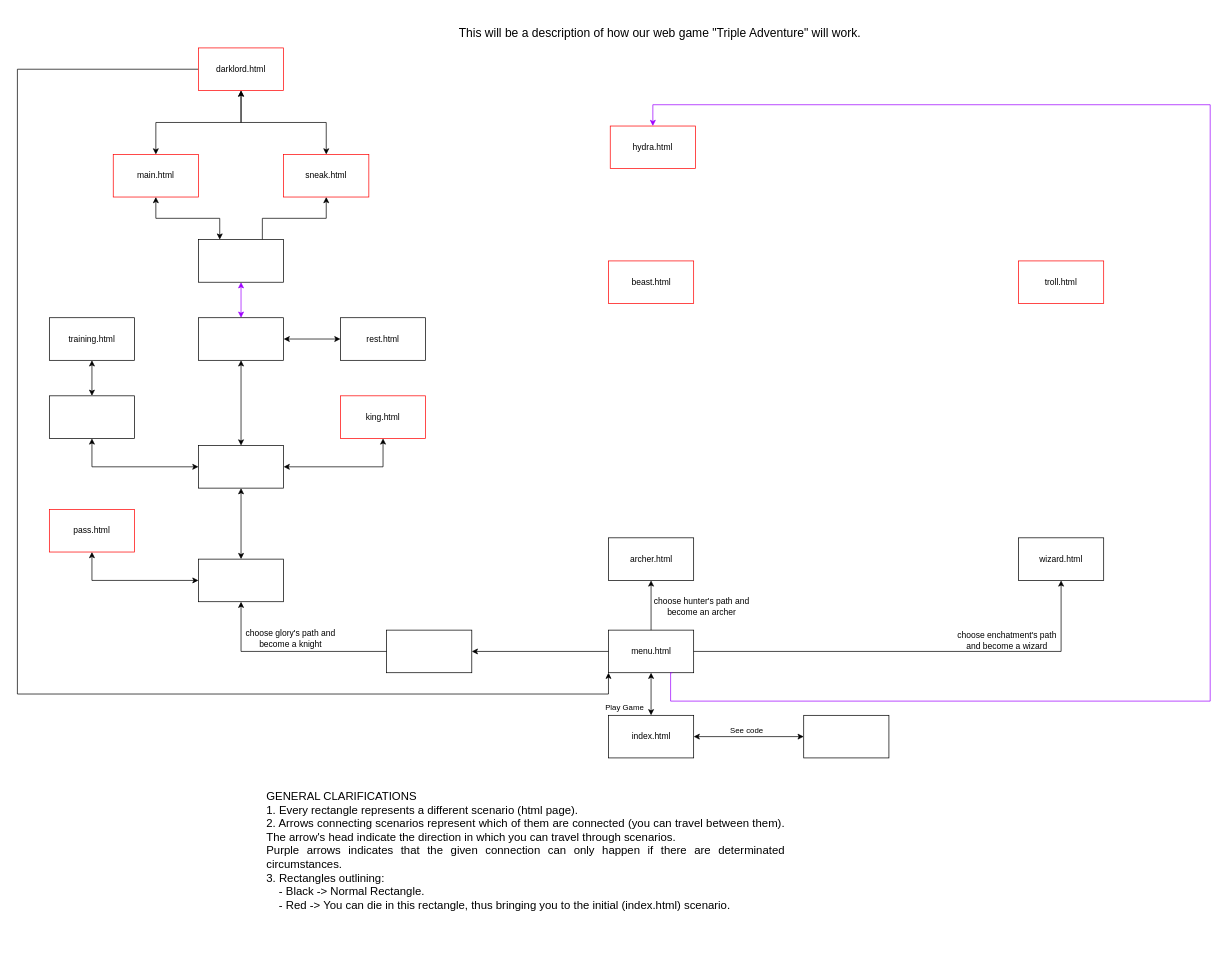
This 1228x954 diagram has some shape labels left out. Here are the shapes that lost their labels. From the top down, the box of each, then its label:
(198, 239, 284, 282): darkValley.html
(198, 317, 284, 360): garden.html
(49, 395, 135, 438): academy.html
(198, 445, 284, 488): enter.html
(198, 558, 284, 602): entrance.html
(386, 629, 472, 673): knight.html
(803, 715, 889, 758): git repository (code)
